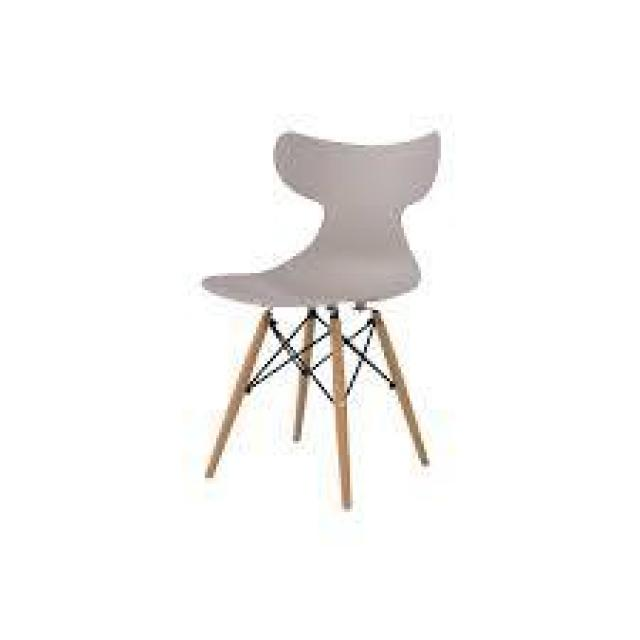chair: (154, 57, 475, 498)
